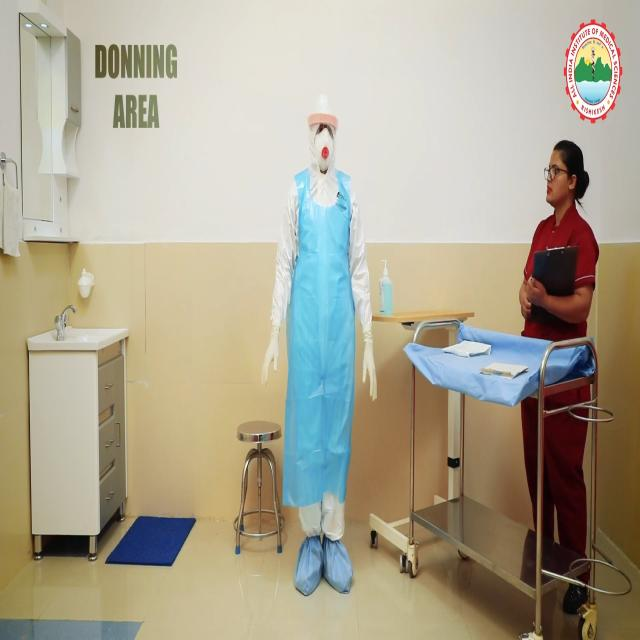Gloves: (358, 333, 384, 403), (260, 329, 286, 381)
